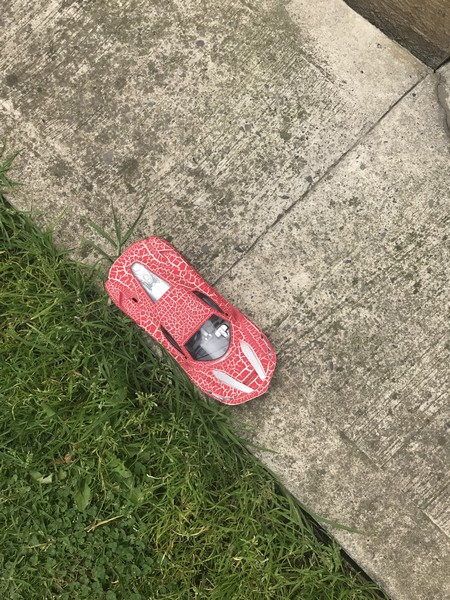RC: (104, 235, 280, 409)
